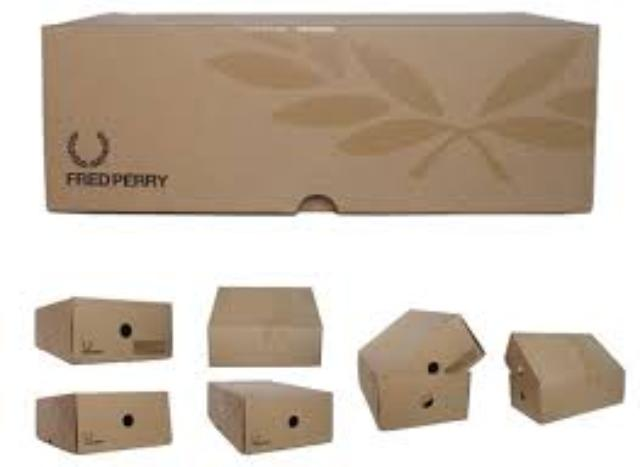cardboard paper: (39, 12, 594, 209), (358, 309, 482, 428), (506, 333, 623, 421), (37, 297, 170, 363), (209, 382, 331, 453), (209, 287, 319, 365), (37, 392, 168, 453)
